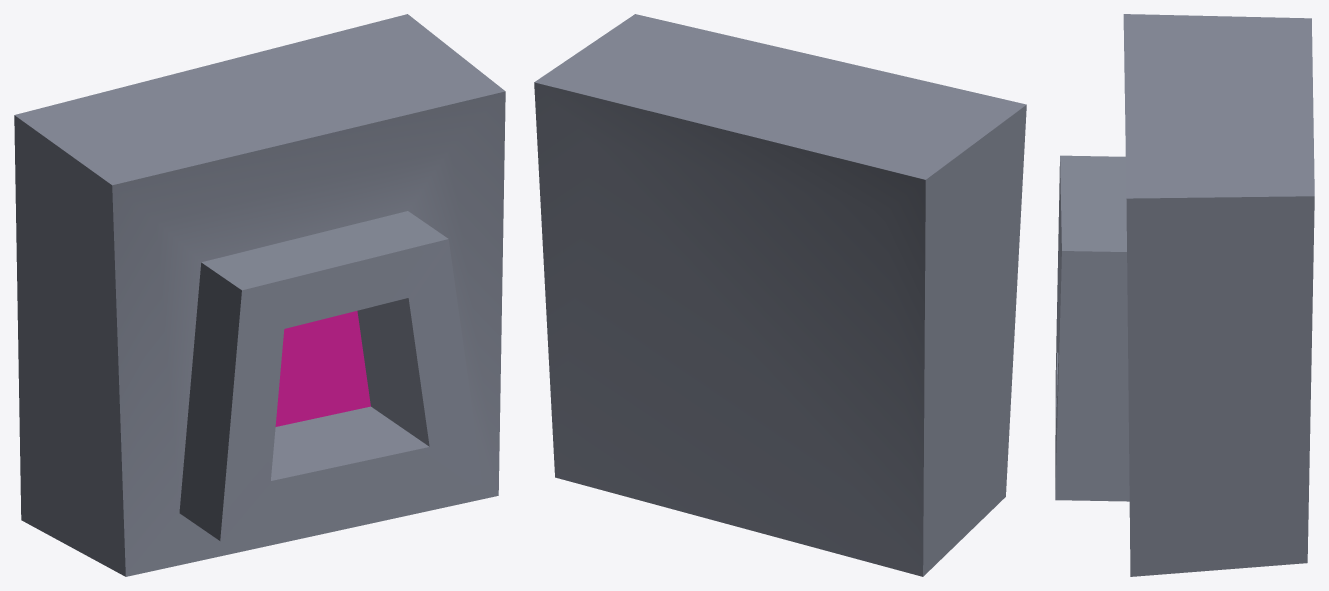
File: wall_type02.fbx
3 renders of one model, left to right at view 1: azimuth 30°, elevation 25°; view 2: azimuth 150°, elevation 25°; view 3: azimuth 270°, elevation 25°, orthographic. The views are drawn at different scales.
Parts seen in each view (by area): view 1: wall_type; view 2: wall_type; view 3: wall_type.
Part boxes in pixels (left/top/right/bottom): wall_type: left=14, top=14, right=505, bottom=576; wall_type: left=534, top=14, right=1026, bottom=576; wall_type: left=1055, top=14, right=1314, bottom=576.
Bounding box in the file's own units: 38.84 × 38.15 × 23.38.
